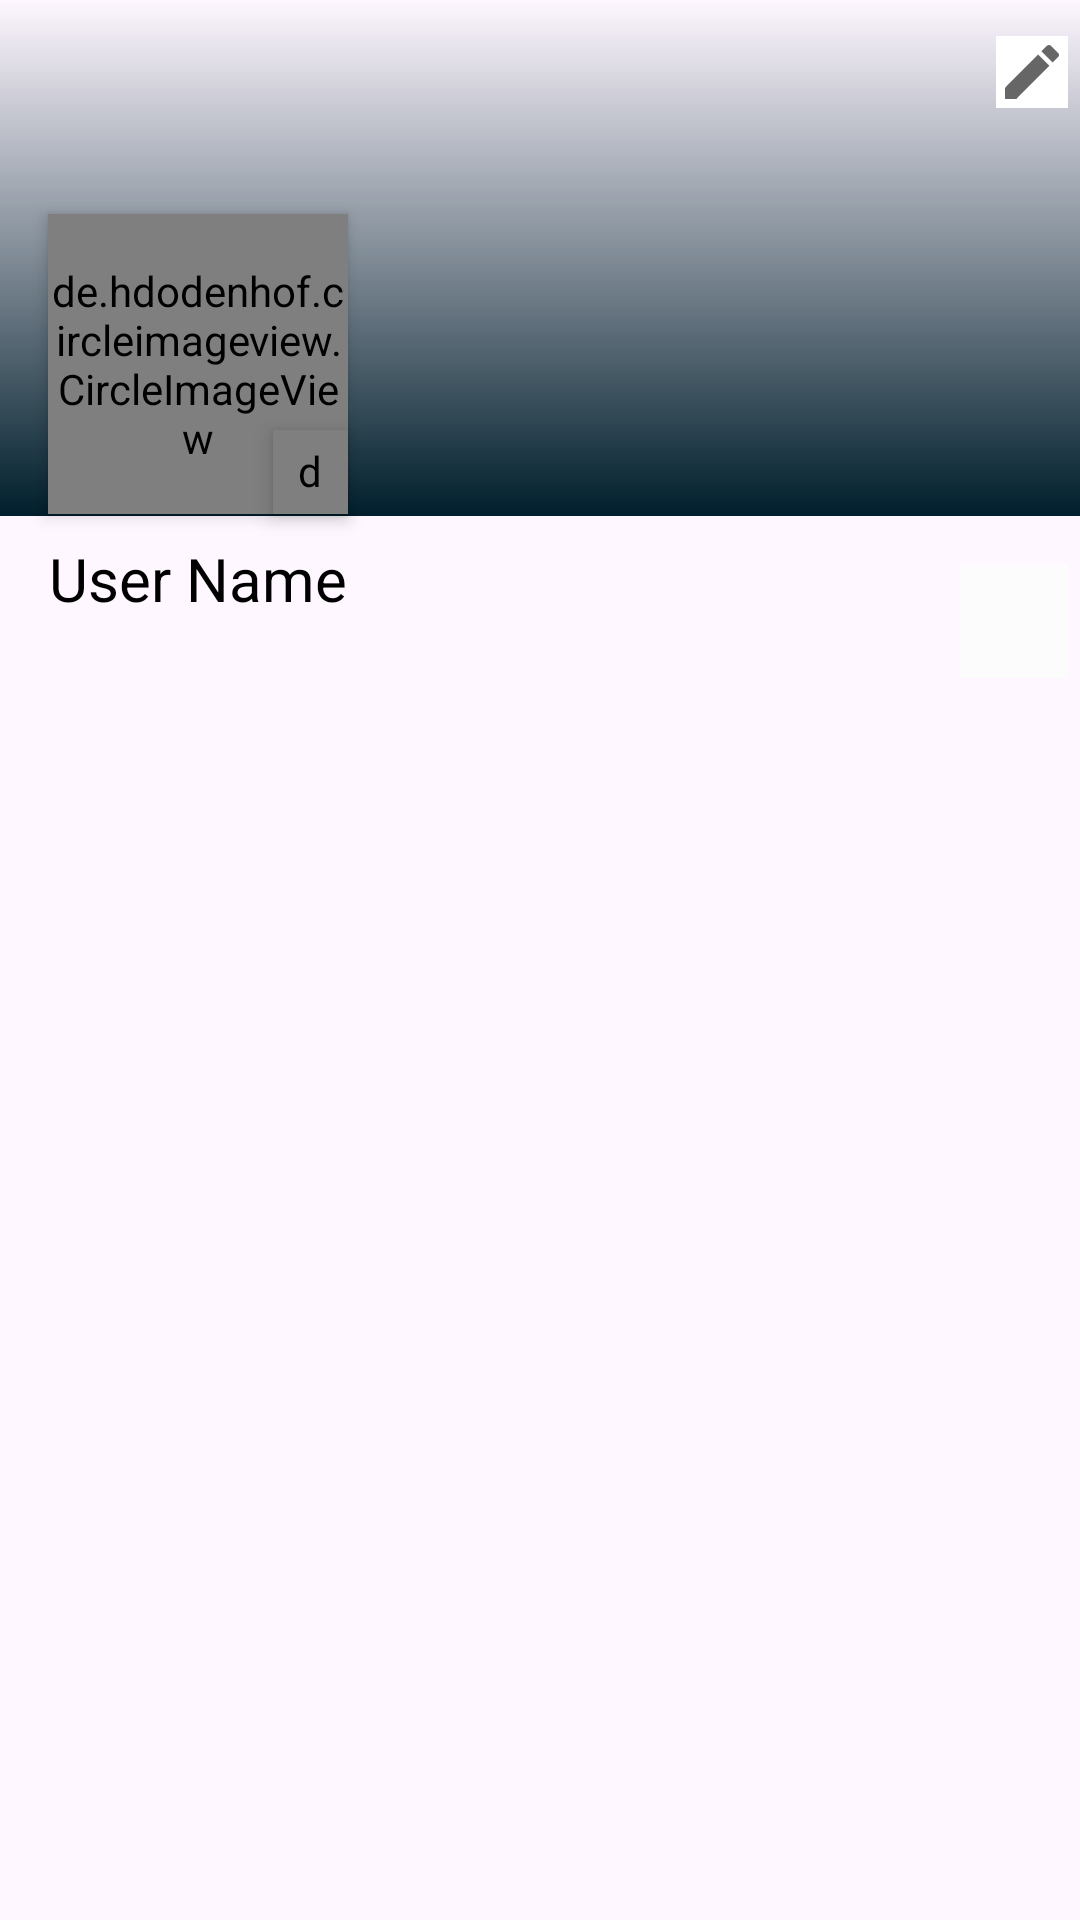

Screen size 1080w x 1920h. Icon name, then its center in pixels as (x,y):
edit: (1032,72)
